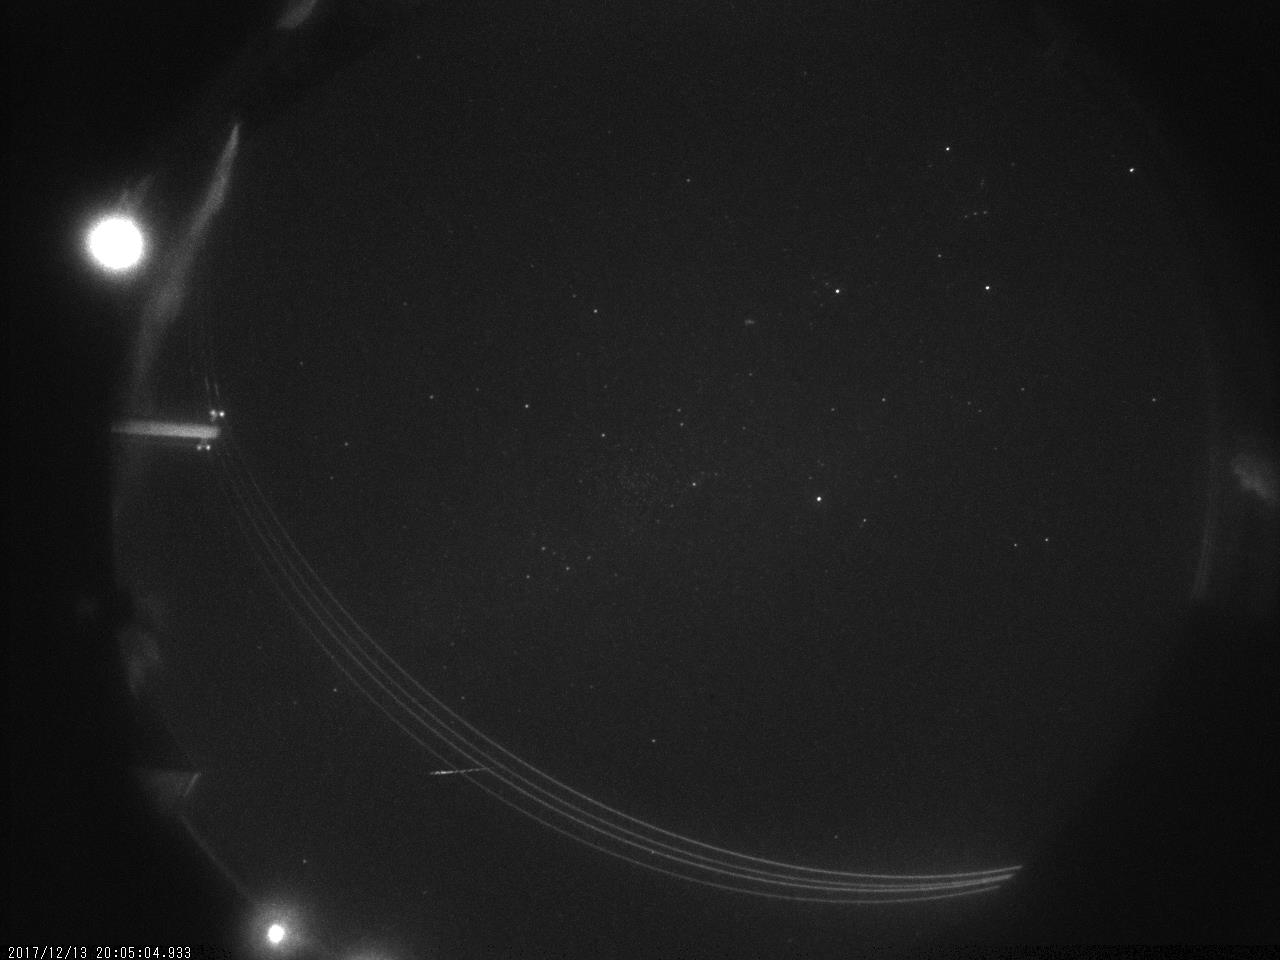meteor: (419, 755, 505, 789)
